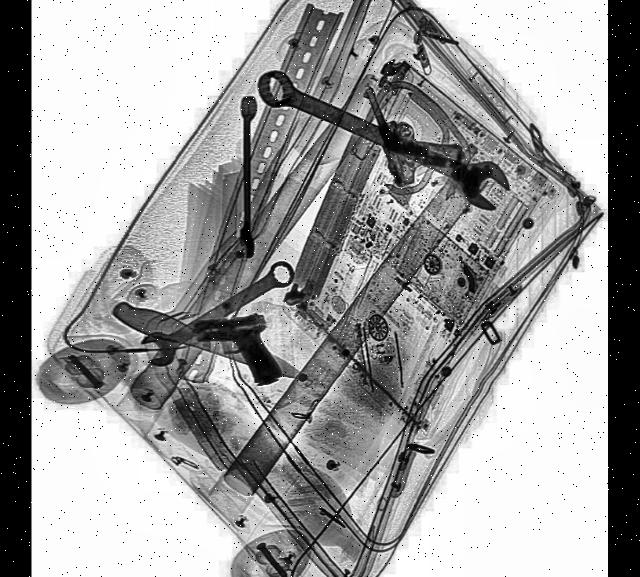Gun: (361, 51, 468, 198), (190, 305, 281, 392)
Knife: (109, 293, 312, 392)
Wrench: (252, 58, 514, 214), (137, 247, 298, 372), (238, 92, 256, 256)
